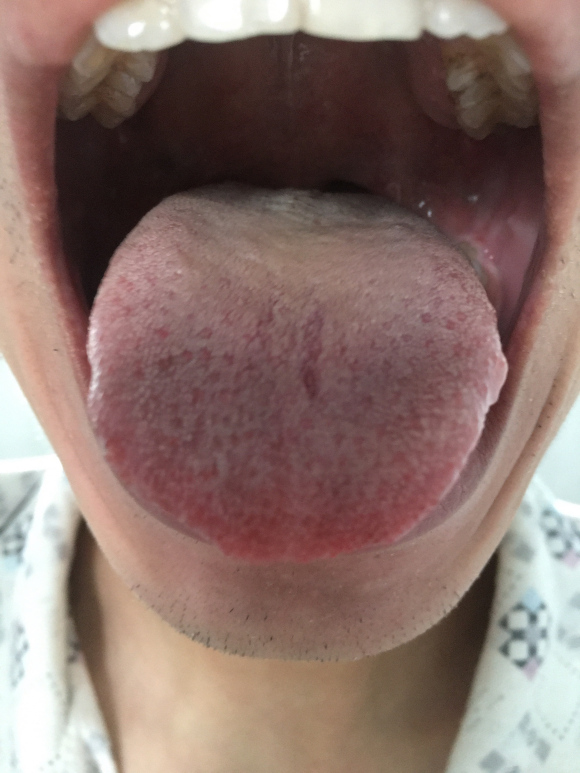baitaishe: (89, 179, 508, 559)
hongdianshe: (152, 325, 169, 340)
hongshe: (89, 179, 508, 559)
